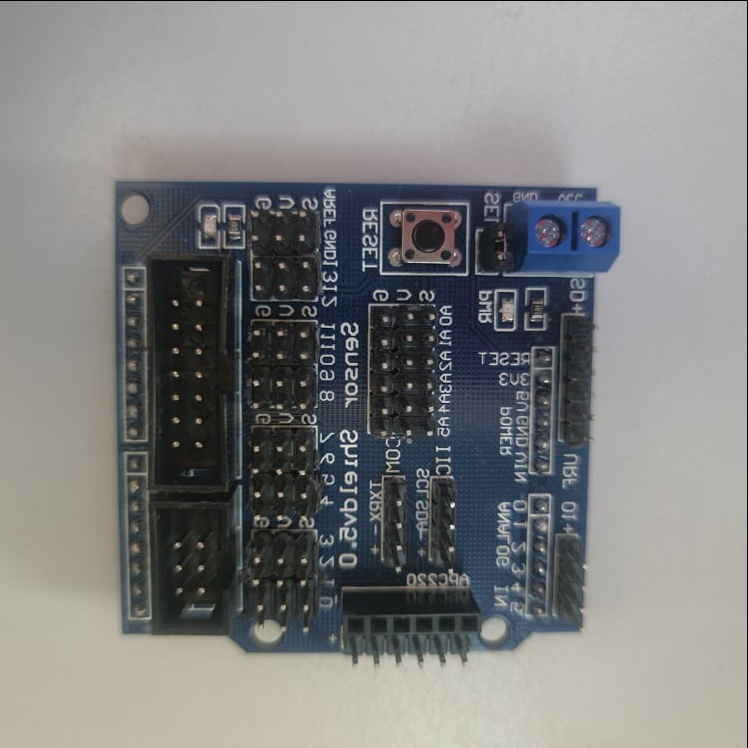5V EXPANSION: (116, 182, 624, 663)
